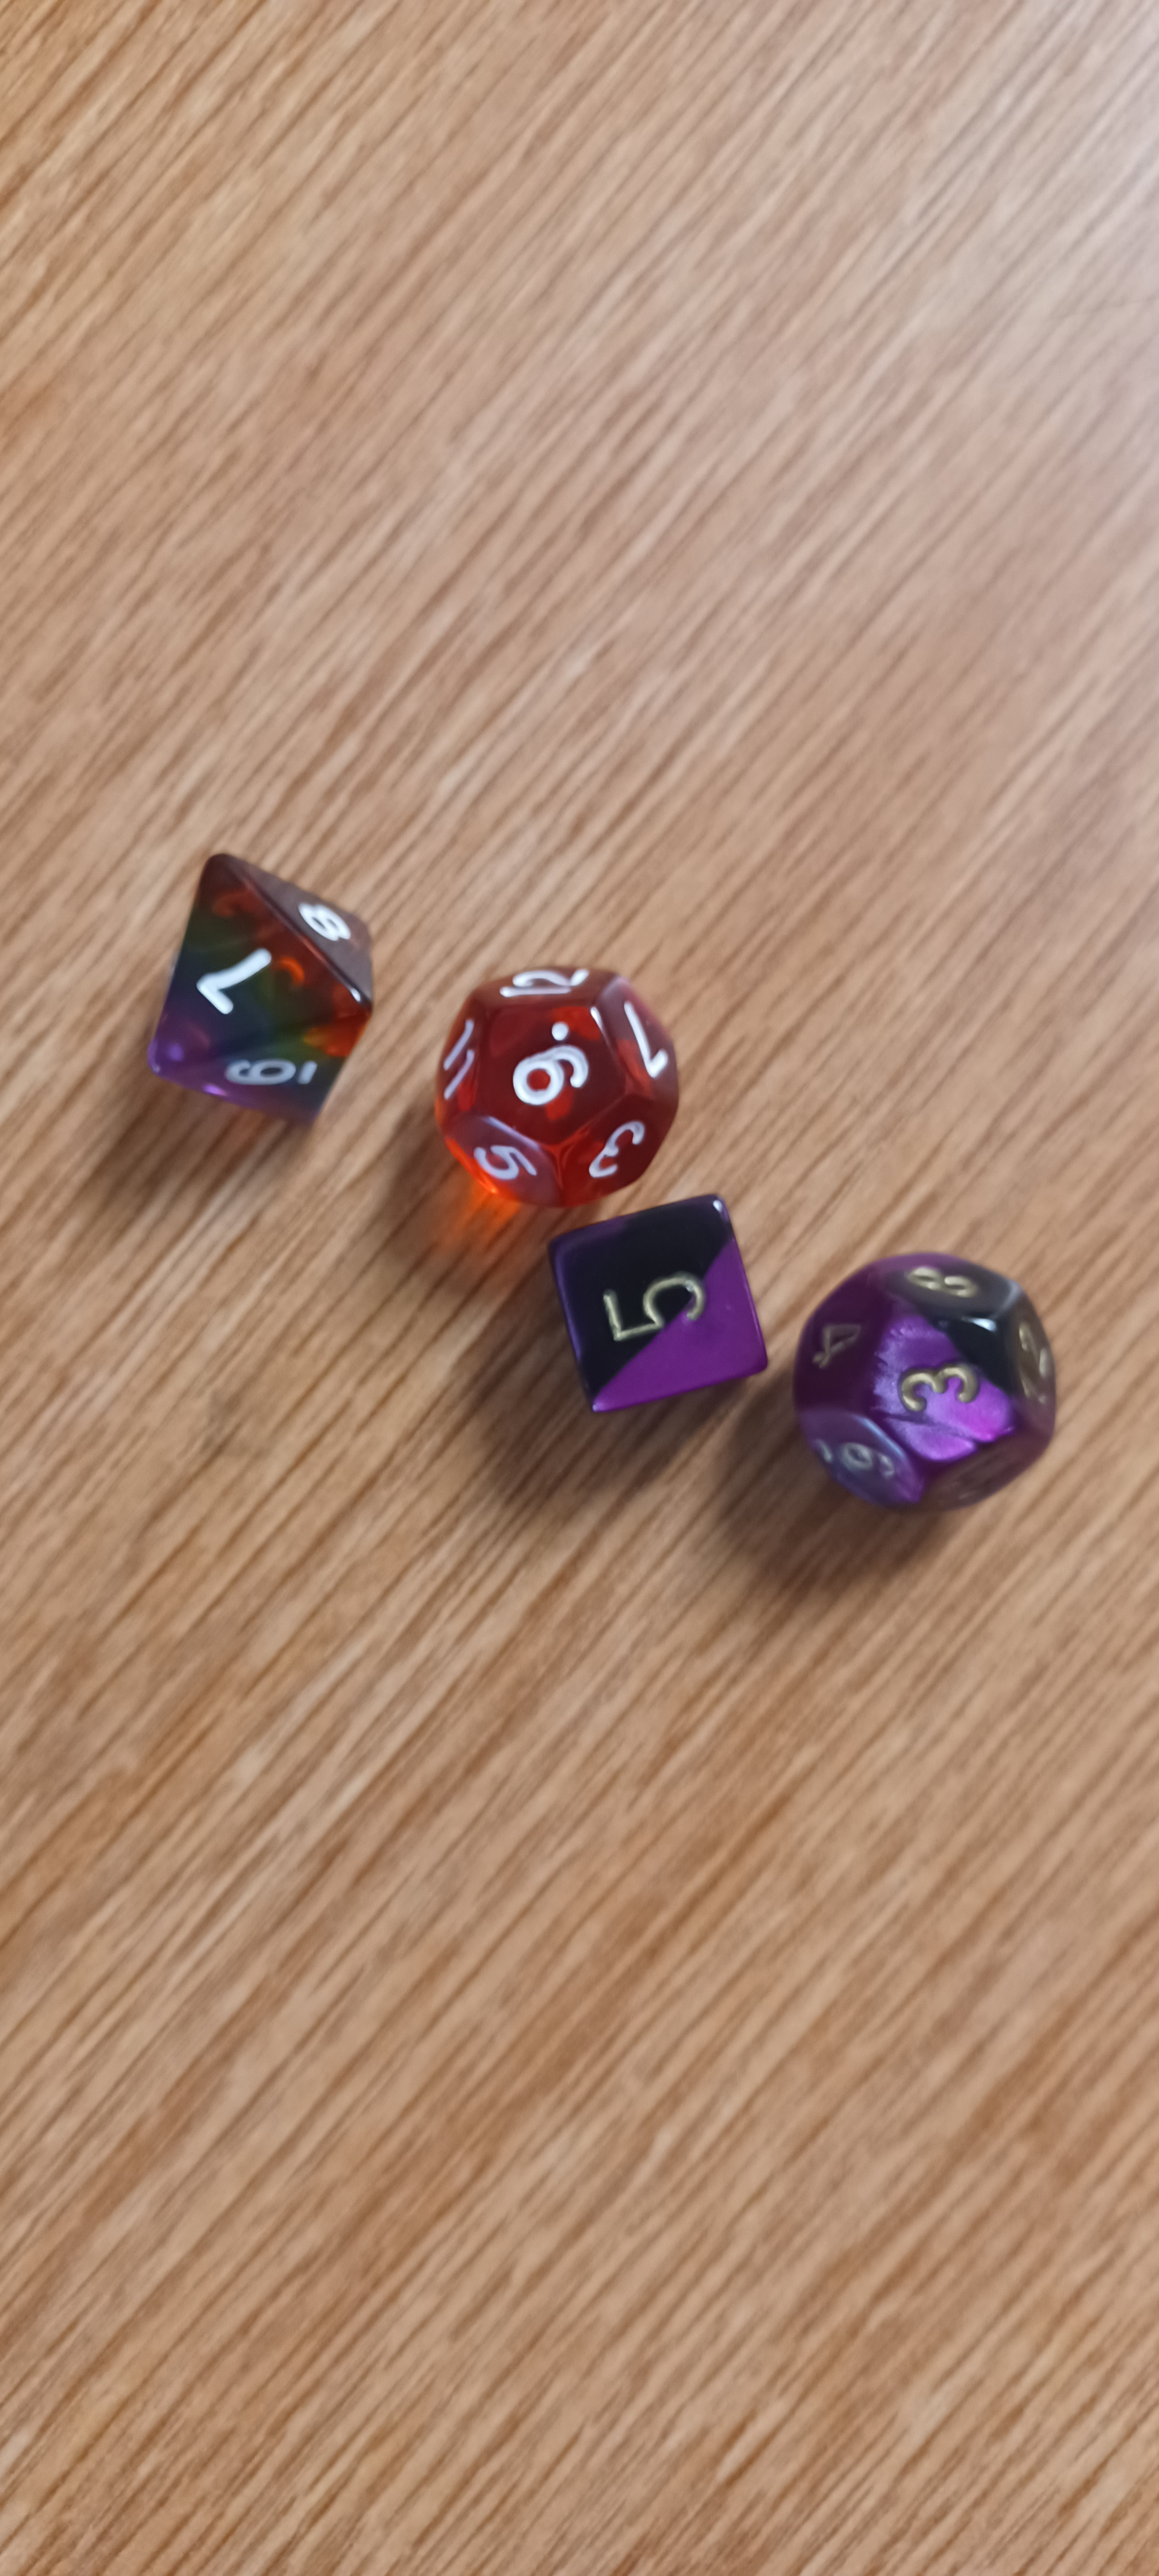five: (538, 1183, 783, 1419)
nine: (407, 935, 717, 1240)
seven: (133, 828, 399, 1122)
three: (773, 1237, 1082, 1531)
